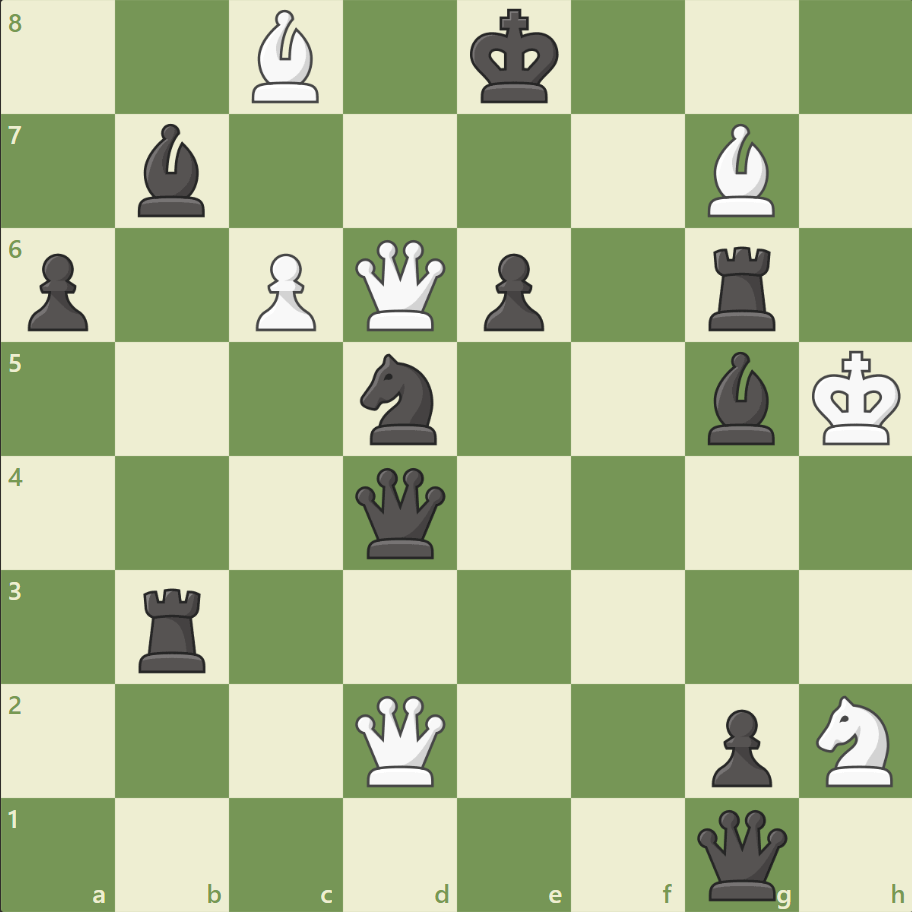B: (244, 6, 328, 109), (698, 120, 782, 222)
K: (806, 344, 906, 452)
N: (806, 688, 903, 791)
P: (247, 246, 322, 337)
Q: (351, 236, 450, 335), (351, 690, 450, 789)
b: (131, 120, 215, 222), (698, 347, 782, 449)
k: (465, 4, 565, 112)
n: (351, 348, 449, 450)
p: (20, 246, 95, 337), (474, 246, 549, 337), (701, 700, 776, 791)
q: (351, 463, 450, 562), (691, 804, 790, 903)
r: (700, 239, 783, 336), (133, 579, 215, 676)
